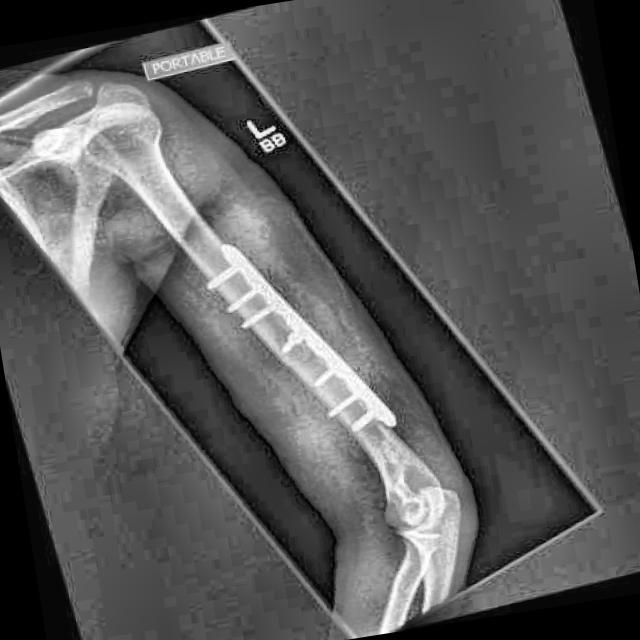humerus: (277, 344, 329, 384)
